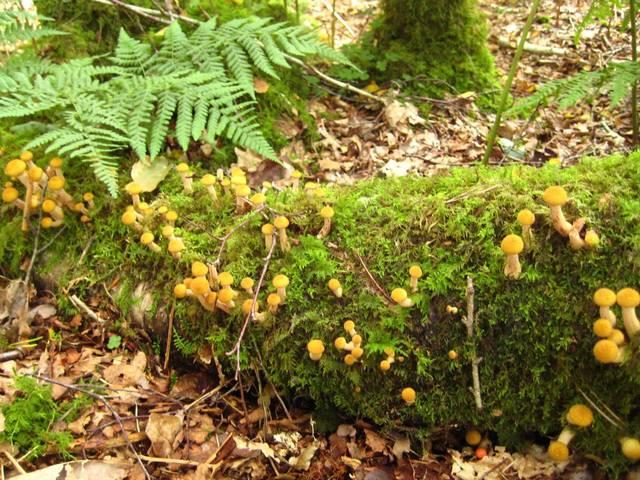edible_mushroom: (169, 257, 294, 321), (2, 143, 80, 242), (114, 174, 187, 261), (175, 157, 268, 208), (545, 400, 598, 462), (589, 282, 626, 365), (388, 262, 426, 311), (333, 317, 366, 370), (542, 184, 572, 236), (258, 210, 291, 254), (615, 286, 639, 338), (500, 233, 523, 278), (314, 202, 337, 237), (306, 335, 328, 365)
